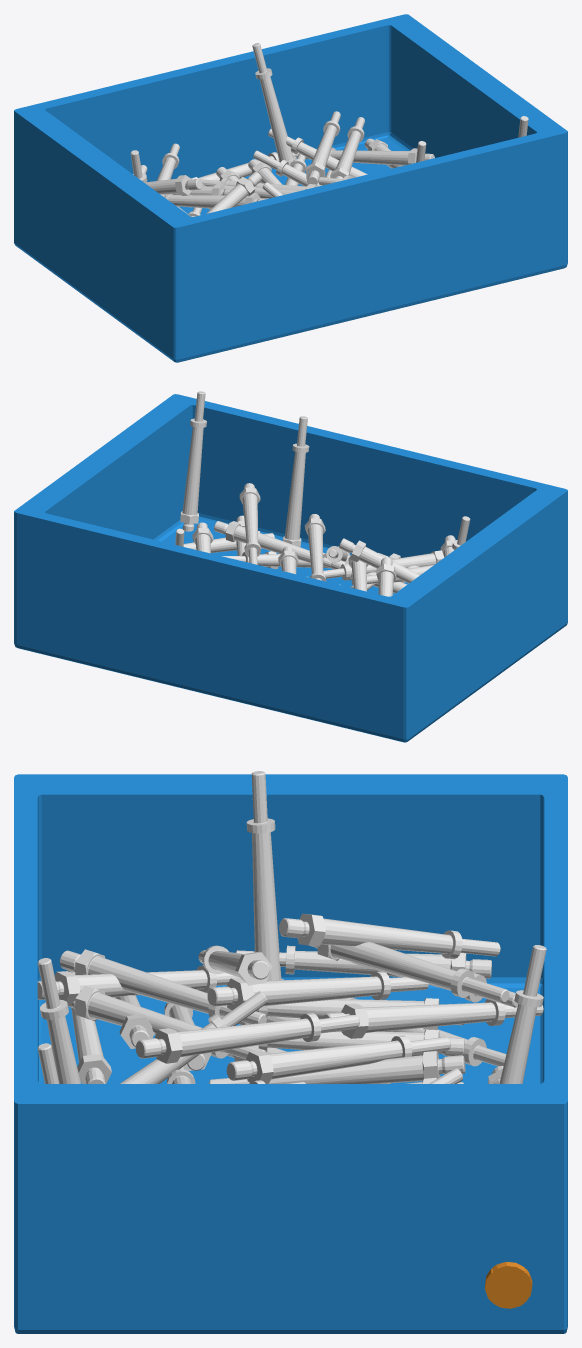
File: Bin_with_pillar_Blue.glb
The picture shows the model from 3 angles, top to bottom: view 1: azimuth 30°, elevation 25°; view 2: azimuth 150°, elevation 25°; view 3: azimuth 270°, elevation 25°; orthographic projection. The views are drawn at different scales.
Parts seen in each view (by area): view 1: Bin, Pillar.029, Pillar.035, Pillar.020, Pillar.031, Pillar.025, Pillar.034, Pillar.038, Pillar.012, Pillar.013, Pillar.032, Pillar.026 (+1 smaller); view 2: Bin, Pillar, Pillar.028, Pillar.004, Pillar.036, Pillar.034, Pillar.030, Pillar.039, Pillar.038, Pillar.027, Pillar.003, Pillar.025 (+1 smaller); view 3: Bin, Pillar.030, Pillar.026, Pillar.038, Pillar.025, Pillar.042, Pillar.021, Pillar.032, Pillar.040, Pillar.015, Pillar.029, Pillar.041 (+12 smaller).
Part boxes in pixels (x1,y1,x2,y2): Bin: [14, 14, 567, 362]; Pillar.029: [252, 43, 296, 165]; Pillar.035: [306, 111, 340, 184]; Pillar.020: [305, 147, 434, 165]; Pillar.031: [330, 117, 364, 179]; Pillar.025: [165, 193, 268, 208]; Pillar.034: [206, 172, 261, 213]; Pillar.038: [145, 175, 202, 195]; Pillar.012: [268, 129, 367, 177]; Pillar.013: [253, 150, 321, 186]; Pillar.032: [156, 143, 179, 197]; Pillar.026: [200, 177, 317, 190]; Bin: [14, 394, 567, 742]; Pillar: [180, 391, 206, 531]; Pillar.028: [282, 416, 309, 547]; Pillar.004: [214, 521, 331, 568]; Pillar.036: [239, 483, 260, 564]; Pillar.034: [339, 538, 419, 583]; Pillar.030: [304, 514, 326, 581]; Pillar.039: [323, 550, 444, 580]; Pillar.038: [376, 557, 396, 596]; Pillar.027: [222, 552, 350, 569]; Pillar.003: [192, 522, 213, 553]; Pillar.025: [348, 555, 368, 591]; Bin: [14, 774, 567, 1333]; Pillar.030: [135, 1013, 359, 1063]; Pillar.026: [226, 1035, 450, 1083]; Pillar.038: [279, 913, 500, 959]; Pillar.025: [207, 971, 428, 1010]; Pillar.042: [246, 771, 284, 980]; Pillar.021: [322, 999, 543, 1038]; Pillar.032: [310, 942, 509, 1002]; Pillar.040: [59, 949, 266, 1024]; Pillar.015: [209, 1051, 465, 1083]; Pillar.029: [499, 945, 546, 1083]; Pillar.041: [37, 965, 238, 1005].
Bounding box in the file's own units: 0.399 × 0.1462 × 0.28.
